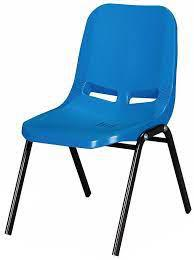chair: (4, 4, 189, 257)
